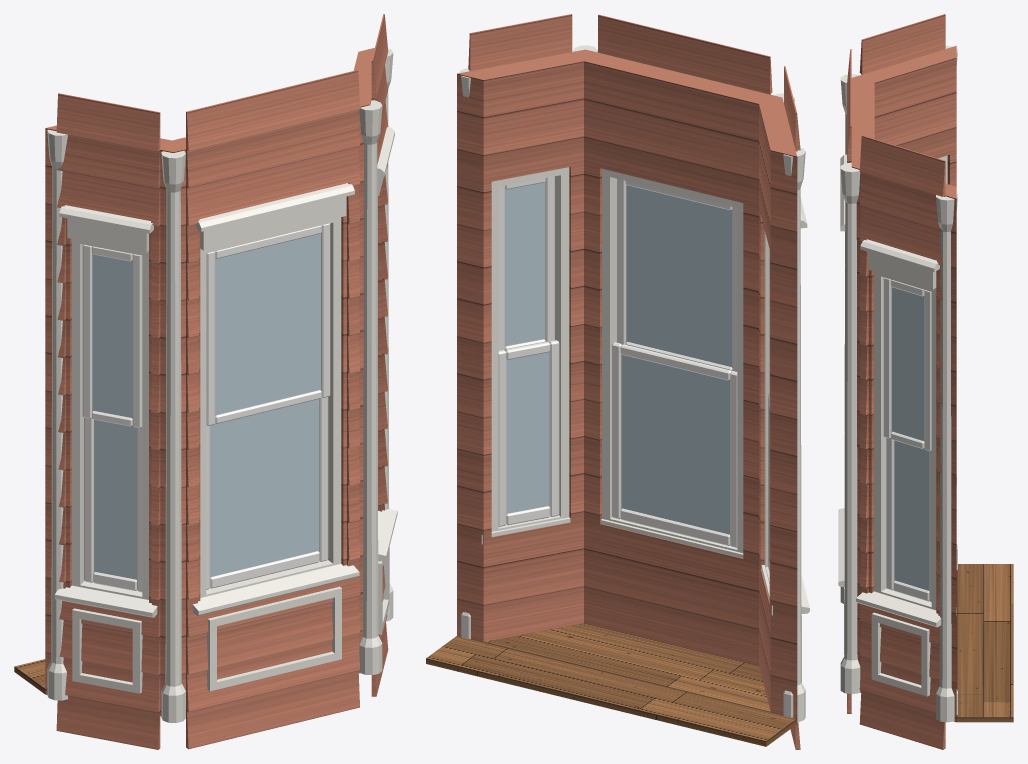
Rendered from bay_g_e.glb.
3 views of the same model, side by side, from view 1: azimuth 30°, elevation 25°; view 2: azimuth 150°, elevation 25°; view 3: azimuth 270°, elevation 25° (orthographic). The views are drawn at different scales.
Visible parts, largest first — view 1: bay_g_e_siding_e, bay_g_e_trim, bay_g_e_glass, bay_g_e_sash, bay_g_e_frame, bay_g_e_floor; view 2: bay_g_e_siding_e, bay_g_e_glass, bay_g_e_floor, bay_g_e_frame, bay_g_e_sash, bay_g_e_trim; view 3: bay_g_e_siding_e, bay_g_e_trim, bay_g_e_glass, bay_g_e_floor, bay_g_e_frame, bay_g_e_sash.
Boxes of the visible parts, bbox=[...] form: bay_g_e_siding_e: bbox=[45, 14, 388, 749]; bay_g_e_trim: bbox=[47, 48, 397, 722]; bay_g_e_glass: bbox=[92, 233, 320, 579]; bay_g_e_sash: bbox=[82, 223, 330, 592]; bay_g_e_frame: bbox=[71, 196, 377, 599]; bay_g_e_floor: bbox=[14, 659, 45, 694]; bay_g_e_siding_e: bbox=[457, 14, 800, 749]; bay_g_e_glass: bbox=[505, 182, 732, 534]; bay_g_e_floor: bbox=[426, 623, 797, 746]; bay_g_e_frame: bbox=[491, 167, 769, 583]; bay_g_e_sash: bbox=[498, 176, 769, 571]; bay_g_e_trim: bbox=[459, 45, 809, 722]; bay_g_e_siding_e: bbox=[847, 14, 956, 749]; bay_g_e_trim: bbox=[838, 45, 957, 722]; bay_g_e_glass: bbox=[891, 287, 929, 590]; bay_g_e_floor: bbox=[956, 564, 1013, 722]; bay_g_e_frame: bbox=[874, 155, 947, 610]; bay_g_e_sash: bbox=[883, 277, 931, 602].
Bounding box in the file's own units: 1.92 × 3.4 × 0.92.
6 materials, 2 textured.
